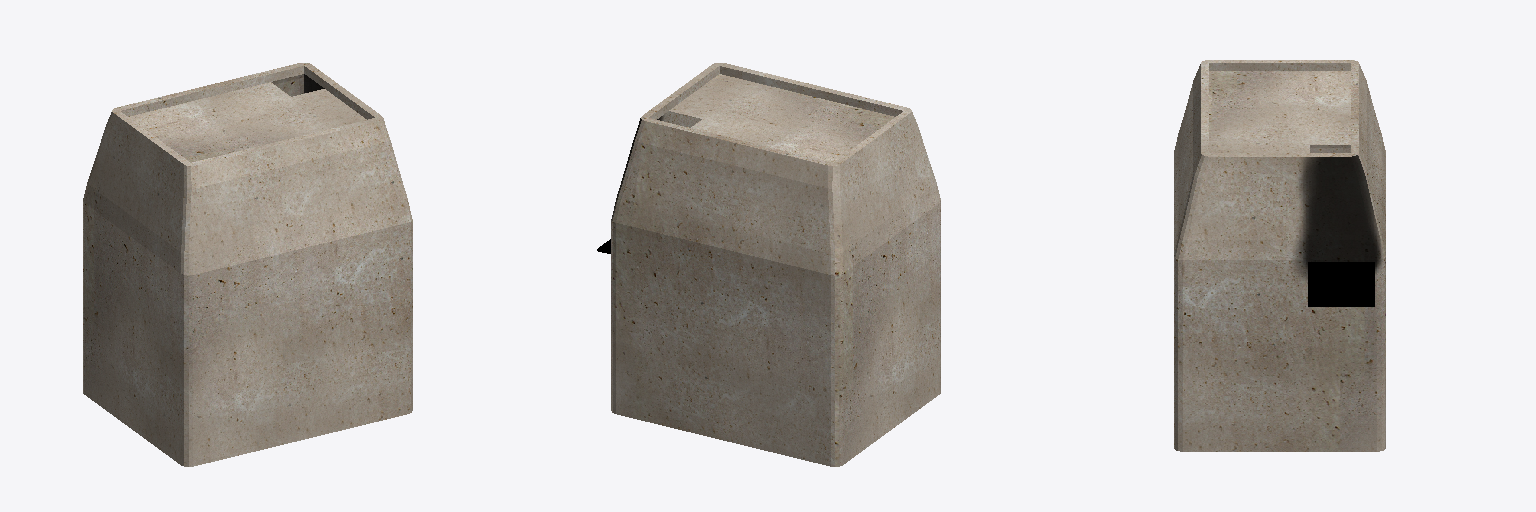
The picture shows the model from 3 angles: view 1: azimuth 30°, elevation 25°; view 2: azimuth 150°, elevation 25°; view 3: azimuth 270°, elevation 25°; orthographic projection.
Visible parts, largest first — view 1: Mesh; view 2: Mesh; view 3: Mesh.
Part boxes in pixels (x1,y1,x2,y2): Mesh: (83,63,412,466); Mesh: (597,63,940,466); Mesh: (1174,60,1385,451).
Size of the model in its own units: 82.23 by 91.44 by 61.09.
1 materials, 1 textured.